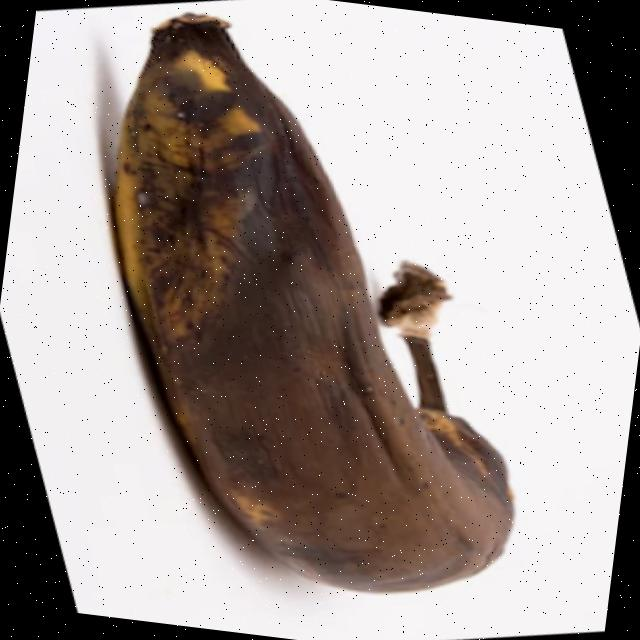Rotten: (68, 2, 573, 606)
